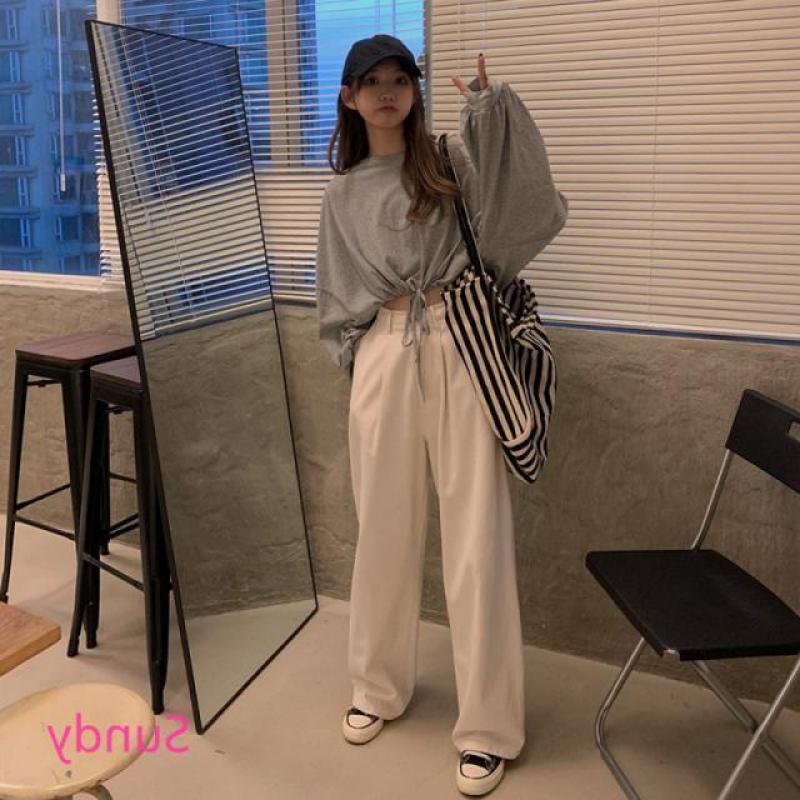long sleeve shirt: (312, 75, 573, 366)
trousers: (343, 306, 527, 762)
